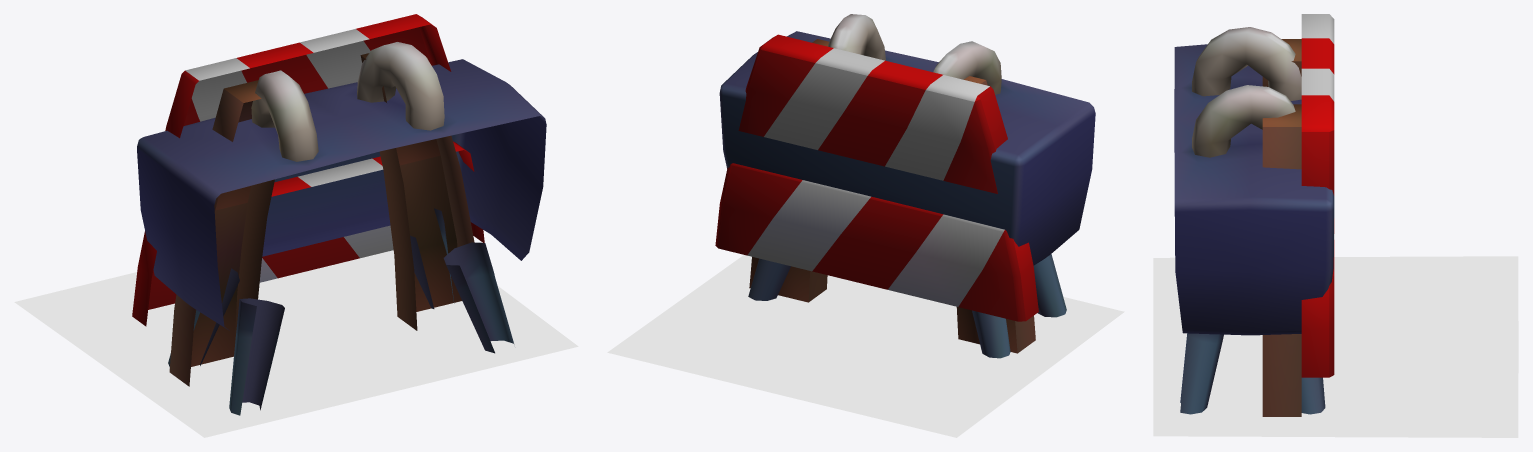
The model's file is city_over_roadworks.fbx.
The picture shows the model from 3 angles, left to right: view 1: azimuth 30°, elevation 25°; view 2: azimuth 150°, elevation 25°; view 3: azimuth 270°, elevation 25°; orthographic projection. The views are drawn at different scales.
Parts seen in each view (by area): view 1: city_over_roadworks_SummerSports, city_over_roadworks, city_over_roadworks_SummerSports_shadow, roadworksShadow02; view 2: city_over_roadworks, city_over_roadworks_SummerSports, city_over_roadworks_SummerSports_shadow, roadworksShadow02; view 3: city_over_roadworks_SummerSports, city_over_roadworks_SummerSports_shadow, roadworksShadow02, city_over_roadworks.
Part boxes in pixels (x1=…): city_over_roadworks_SummerSports: x1=137, y1=42, x2=546, y2=415; city_over_roadworks: x1=132, y1=14, x2=484, y2=386; city_over_roadworks_SummerSports_shadow: x1=14, y1=250, x2=578, y2=437; roadworksShadow02: x1=73, y1=271, x2=469, y2=393; city_over_roadworks: x1=715, y1=34, x2=1038, y2=353; city_over_roadworks_SummerSports: x1=719, y1=14, x2=1095, y2=358; city_over_roadworks_SummerSports_shadow: x1=607, y1=255, x2=1124, y2=437; roadworksShadow02: x1=697, y1=286, x2=1054, y2=414; city_over_roadworks_SummerSports: x1=1174, y1=27, x2=1334, y2=414; city_over_roadworks_SummerSports_shadow: x1=1153, y1=256, x2=1518, y2=437; roadworksShadow02: x1=1256, y1=267, x2=1476, y2=425; city_over_roadworks: x1=1262, y1=14, x2=1334, y2=416.
Size of the model in its own units: 111 by 84.42 by 94.43.
